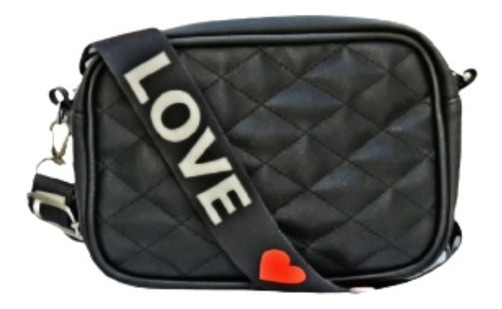cartera: (28, 14, 481, 295)
